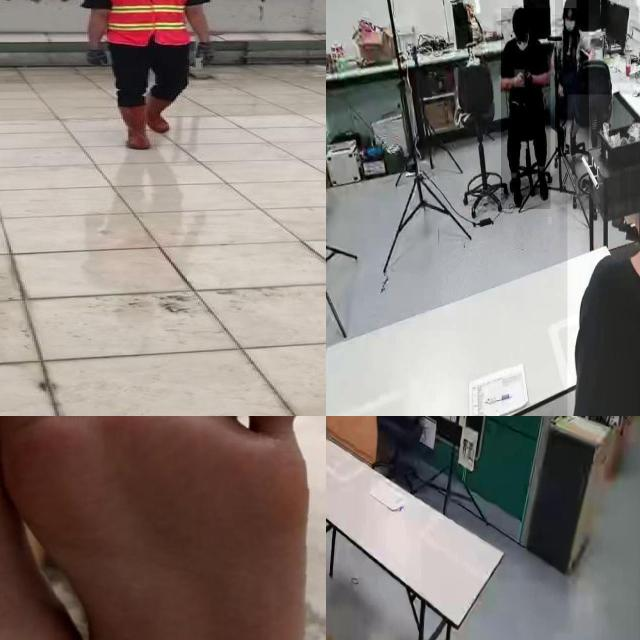Barefoots: (0, 416, 314, 640)
boots: (118, 104, 154, 150), (142, 96, 172, 134)
hand_noglove: (515, 70, 525, 88), (524, 68, 533, 86)
head_nohelmet: (512, 5, 529, 25), (563, 0, 577, 9)
person: (567, 94, 640, 416), (79, 0, 220, 156), (501, 8, 551, 210), (555, 0, 589, 157)
shoes: (507, 173, 526, 210), (532, 165, 551, 201)
vest: (109, 0, 192, 46)
